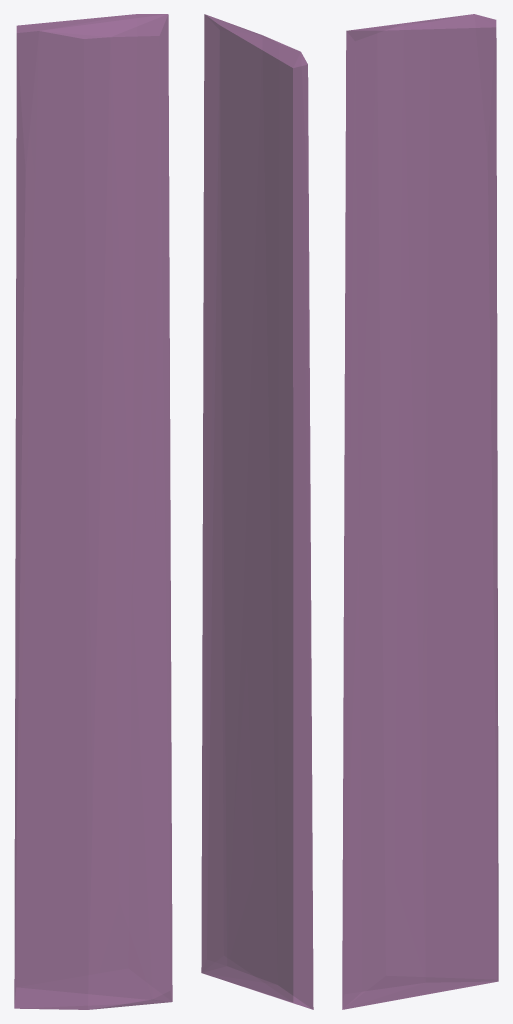
3 renders of one model, left to right at view 1: azimuth 90°, elevation 25°; view 2: azimuth 210°, elevation 25°; view 3: azimuth 270°, elevation 25°, orthographic. The views are drawn at different scales.
Visible parts, largest first — view 1: Shape_IndexedFaceSet.024_Shape_IndexedFaceSet.788; view 2: Shape_IndexedFaceSet.024_Shape_IndexedFaceSet.788; view 3: Shape_IndexedFaceSet.024_Shape_IndexedFaceSet.788.
Boxes of the visible parts, x1=… form: Shape_IndexedFaceSet.024_Shape_IndexedFaceSet.788: x1=14, y1=14, x2=172, y2=1009; Shape_IndexedFaceSet.024_Shape_IndexedFaceSet.788: x1=201, y1=14, x2=313, y2=1009; Shape_IndexedFaceSet.024_Shape_IndexedFaceSet.788: x1=342, y1=14, x2=498, y2=1009.
Bounding box in the file's own units: 0.0463 × 1.21 × 0.1748.
